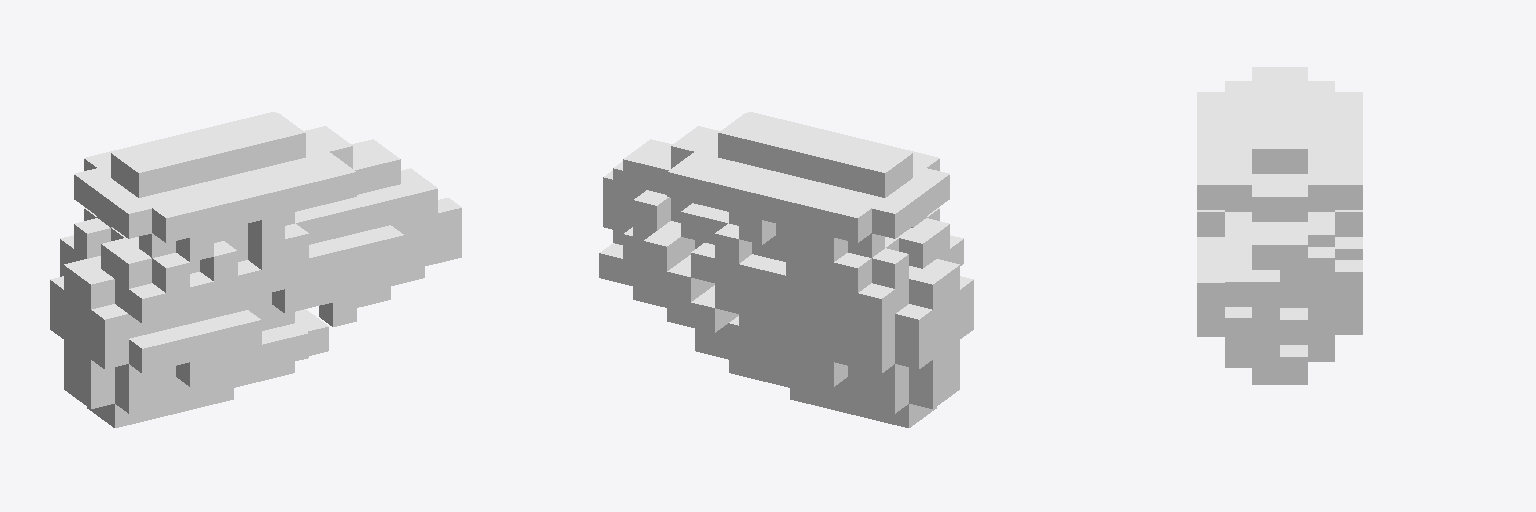
The model's file is AirplaneBodyBroken2.obj.
3 views of the same model, side by side, from view 1: azimuth 30°, elevation 25°; view 2: azimuth 150°, elevation 25°; view 3: azimuth 270°, elevation 25° (orthographic).
Visible parts, largest first — view 1: object 1; view 2: object 1; view 3: object 1.
Boxes of the visible parts, x1,y1,x2,y2 form: object 1: [50, 112, 461, 427]; object 1: [599, 112, 973, 427]; object 1: [1197, 67, 1362, 384].
Size of the model in its own units: 1.5 by 1 by 0.6.